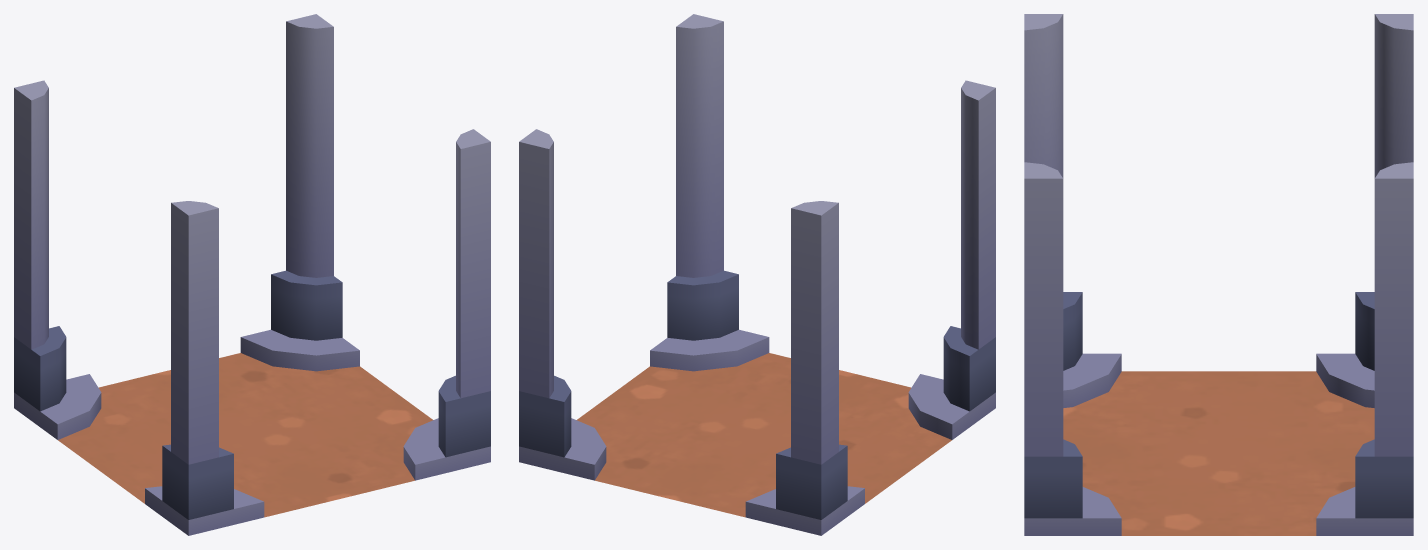
The model's file is corridor-intersection.glb.
The picture shows the model from 3 angles, left to right: view 1: azimuth 30°, elevation 25°; view 2: azimuth 150°, elevation 25°; view 3: azimuth 270°, elevation 25°; orthographic projection. The views are drawn at different scales.
Parts seen in each view (by area): view 1: corridor-intersection; view 2: corridor-intersection; view 3: corridor-intersection.
Part boxes in pixels (box(x1,y1,x2,y2)): corridor-intersection: box(14, 14, 490, 535); corridor-intersection: box(519, 14, 995, 535); corridor-intersection: box(1024, 14, 1413, 535).
Bounding box in the file's own units: 4 × 4.05 × 4.
Materials: 1 (1 with a texture image).
